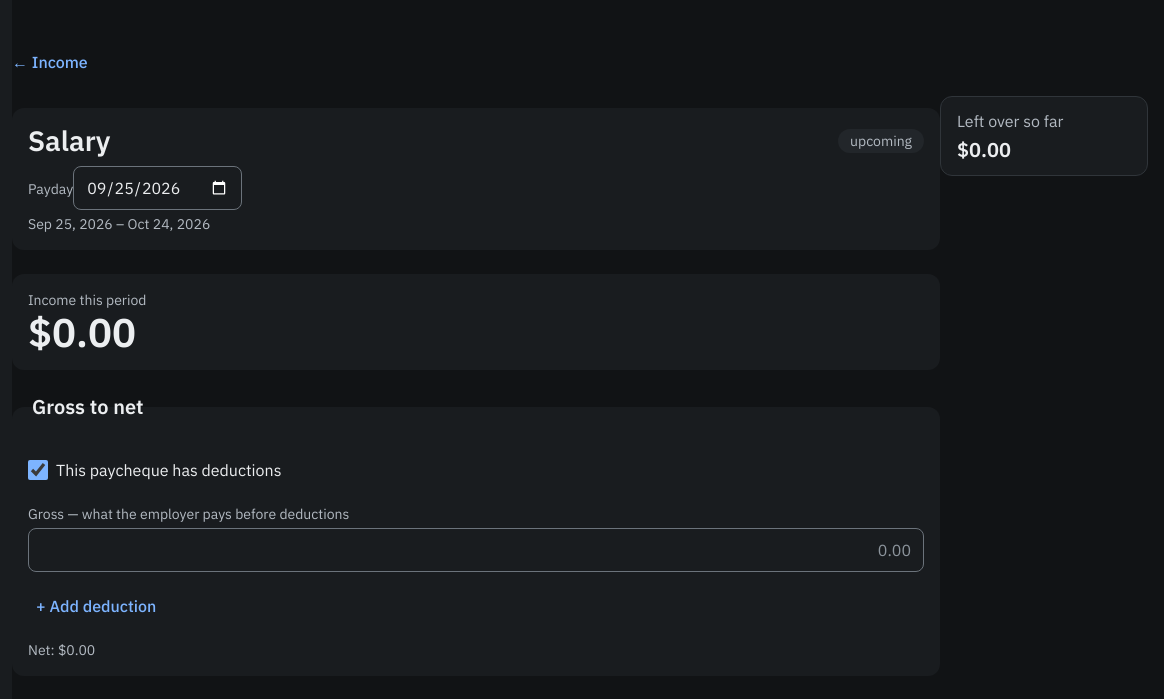
Scenario: PayRecord period from the backend › asks again when the payday changes
Expected: the text "Sep 25, 2026 – Oct 24, 2026" is shown, 28,215 -> 210,233
Type "2026-10-25" into the date field labelled "Payday" at {"x": 158, "y": 188}, box 73,166 -> 242,210
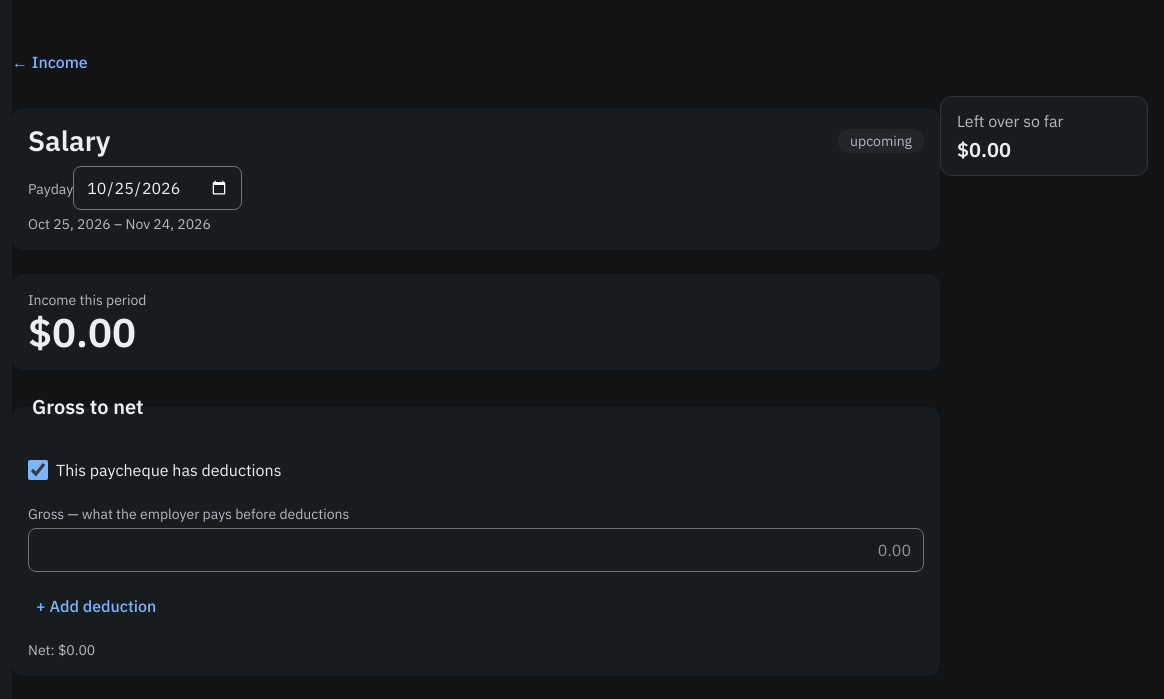
Expected: the text "Oct 25, 2026 – Nov 24, 2026" is shown, 28,215 -> 211,233
